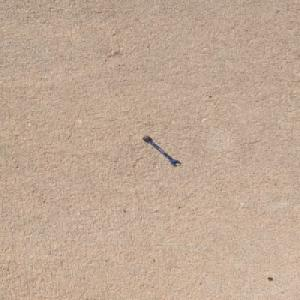Wrench: (142, 135, 181, 165)
